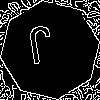J: (25, 25, 57, 74)
